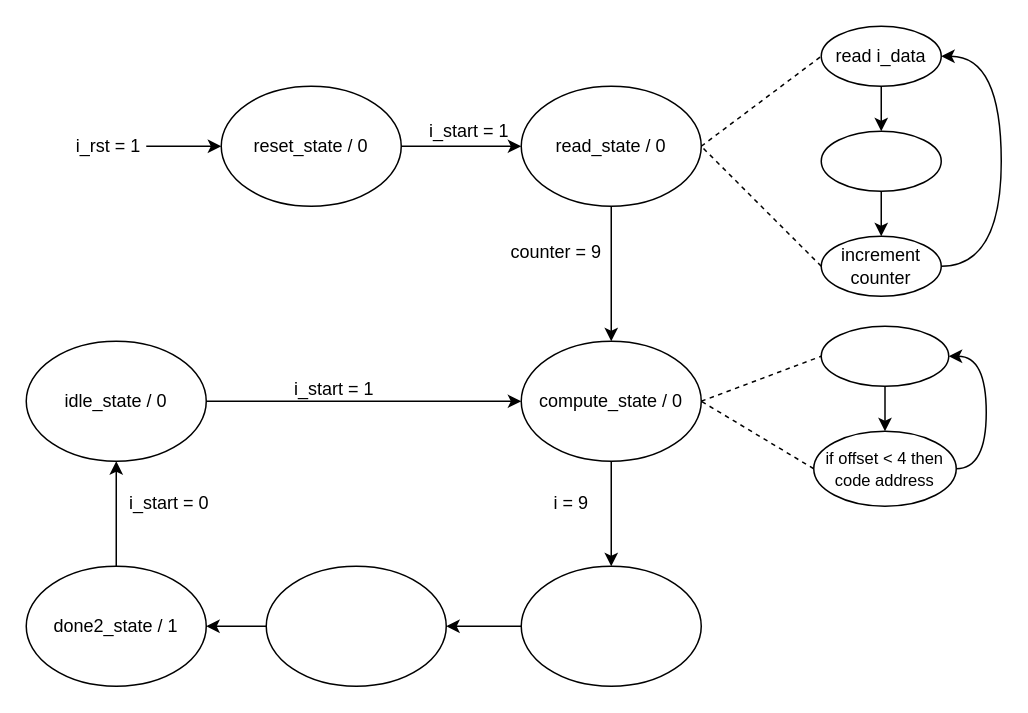
The diagram is 1028 pixels wide and 713 high, and some of its shapes have lost their labels. Each missing label, with the centre of its shape:
"done1_state / 0" goes at (355,625).
"get offset" goes at (884,355).
"increment o_address" goes at (880,160).
"write_state / 0" goes at (610,625).
